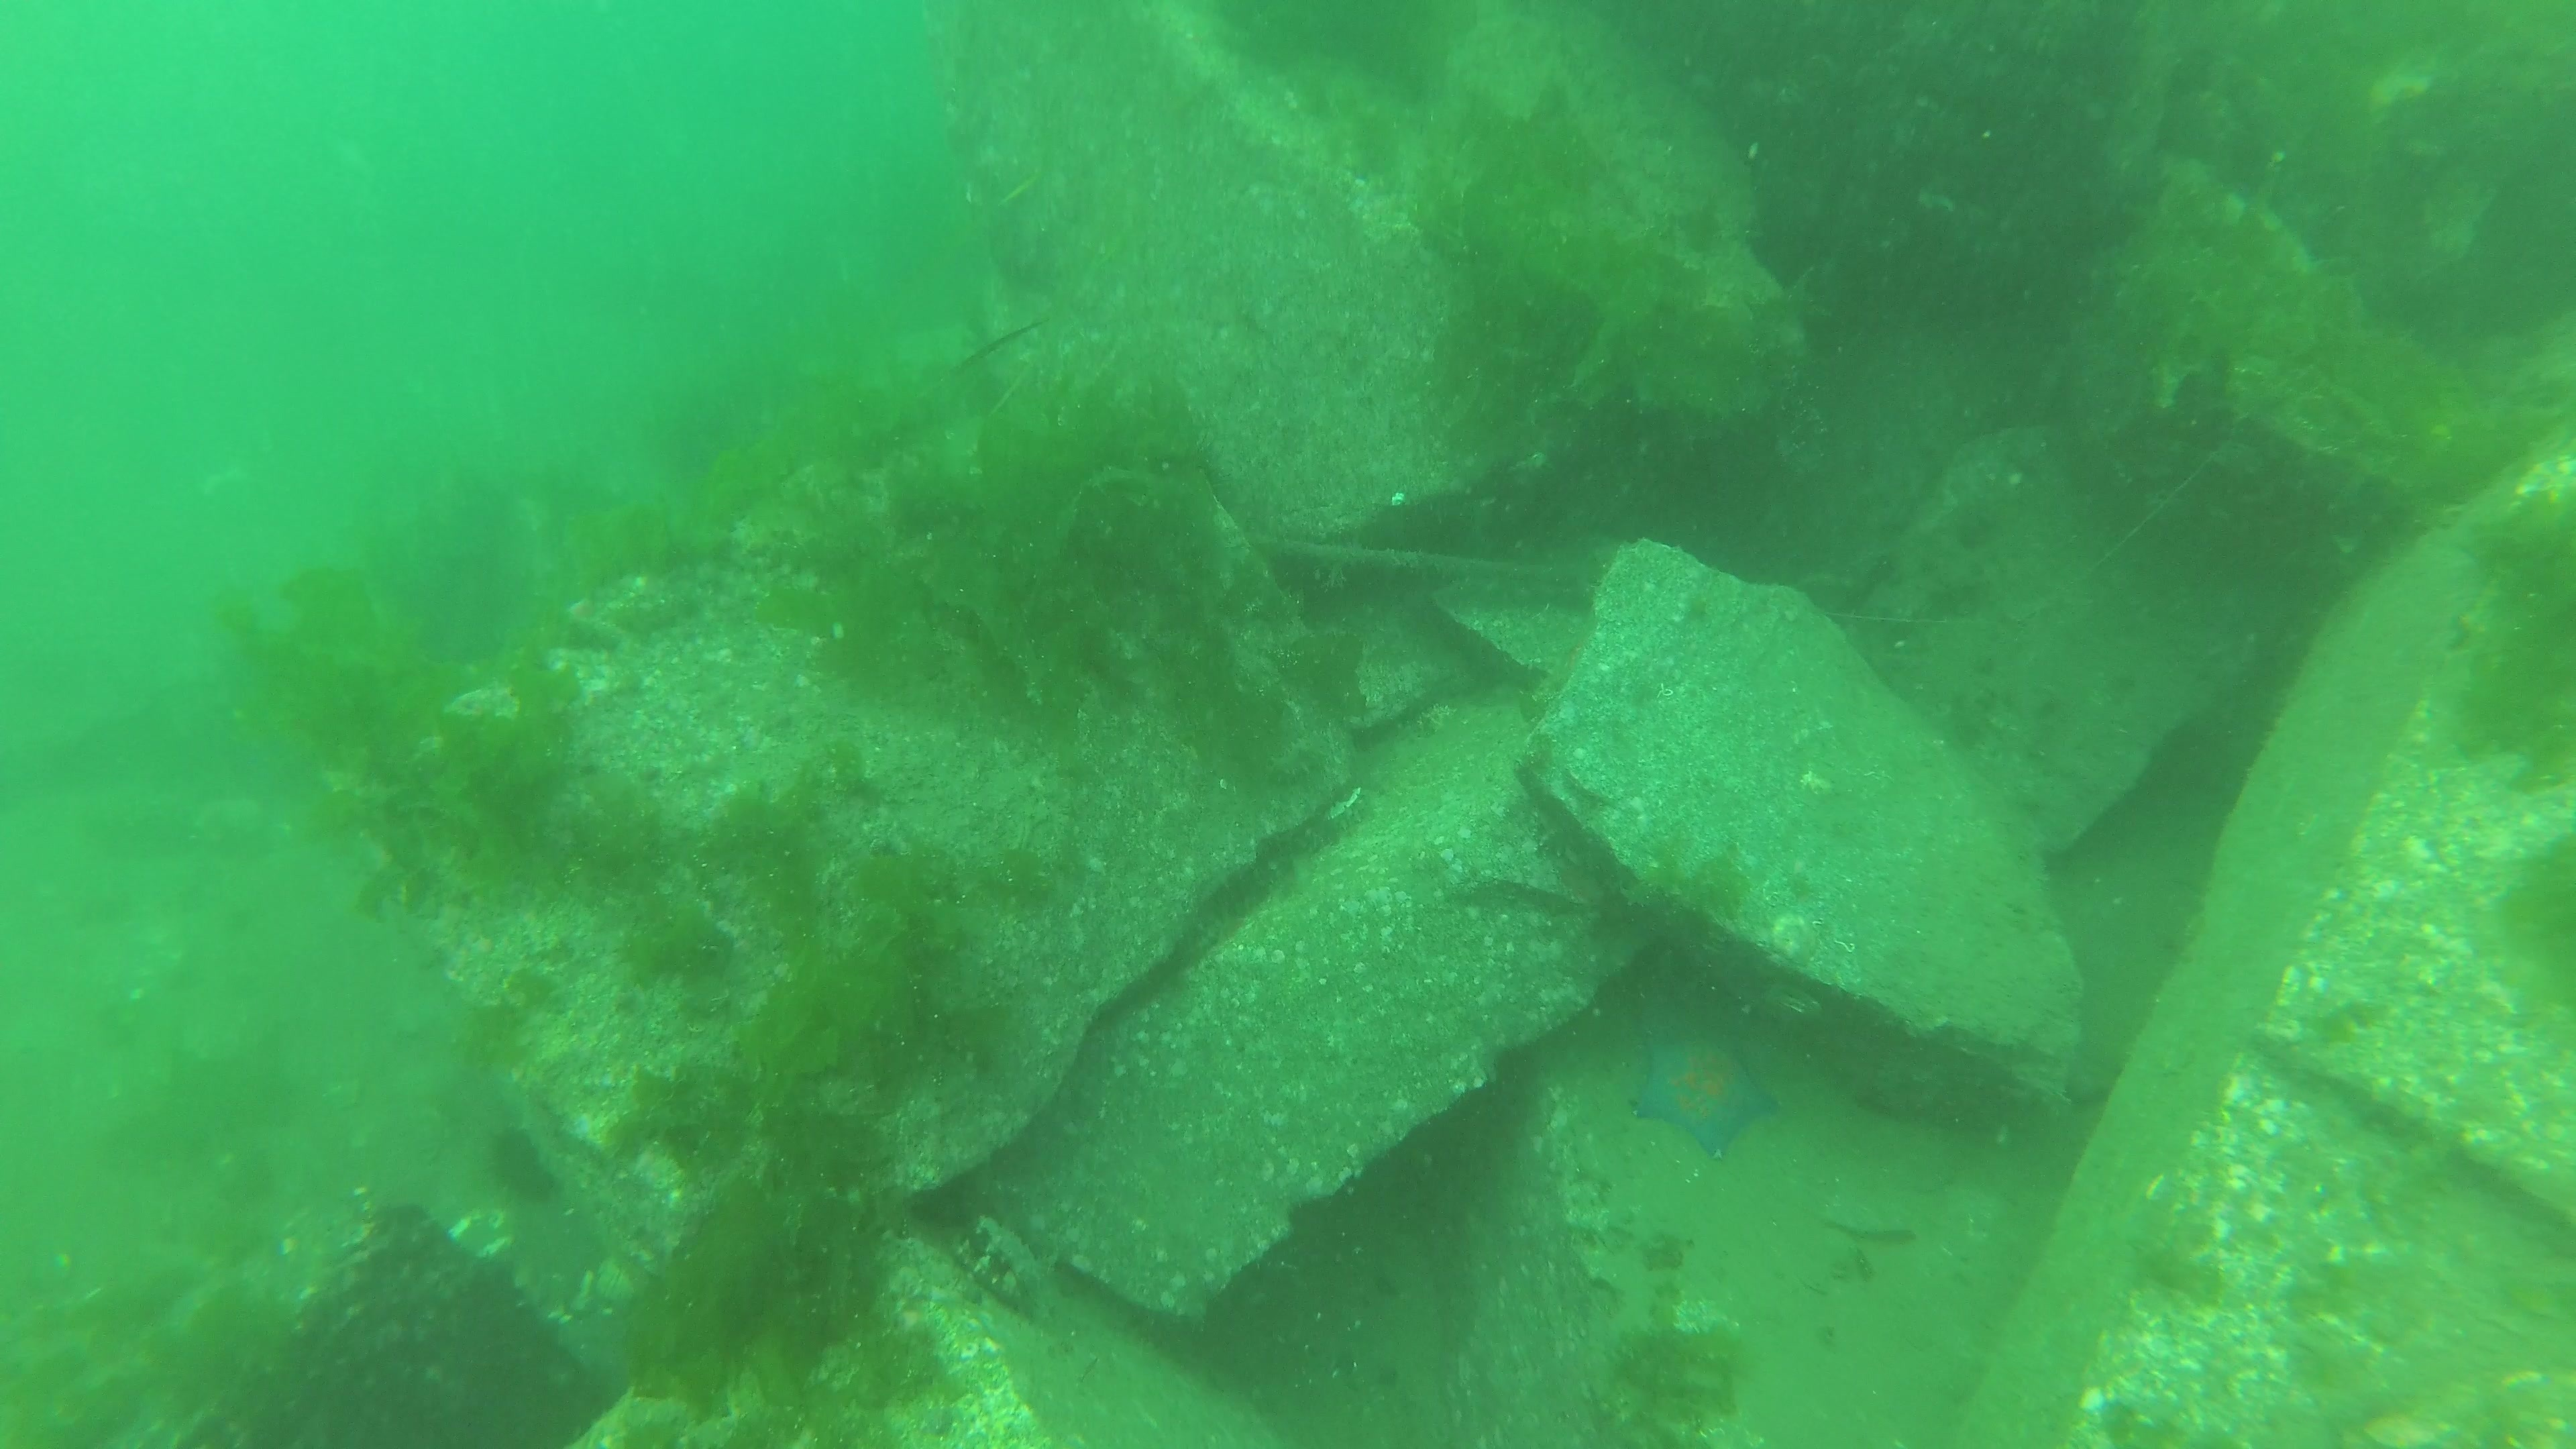echinus: (488, 1129, 561, 1203)
starfish: (1635, 1031, 1776, 1150)
